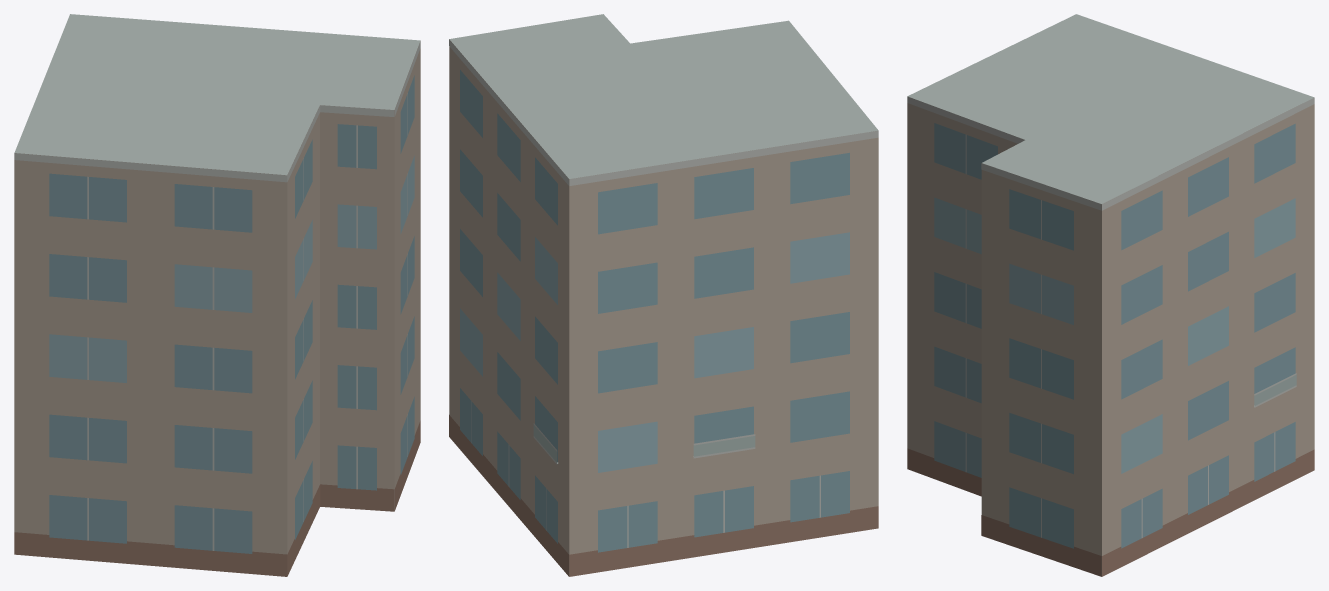
The model's file is survey-upis-32883251.glb.
The picture shows the model from 3 angles, left to right: view 1: azimuth 30°, elevation 25°; view 2: azimuth 150°, elevation 25°; view 3: azimuth 270°, elevation 25°; orthographic projection. The views are drawn at different scales.
Visible parts, largest first — view 1: survey-upis-32883251.tmp; view 2: survey-upis-32883251.tmp; view 3: survey-upis-32883251.tmp.
Boxes of the visible parts, <box> form: survey-upis-32883251.tmp: <box>14,14,420,576</box>; survey-upis-32883251.tmp: <box>449,14,878,576</box>; survey-upis-32883251.tmp: <box>907,14,1314,576</box>.
Size of the model in its own units: 15.11 by 13.8 by 13.68.
